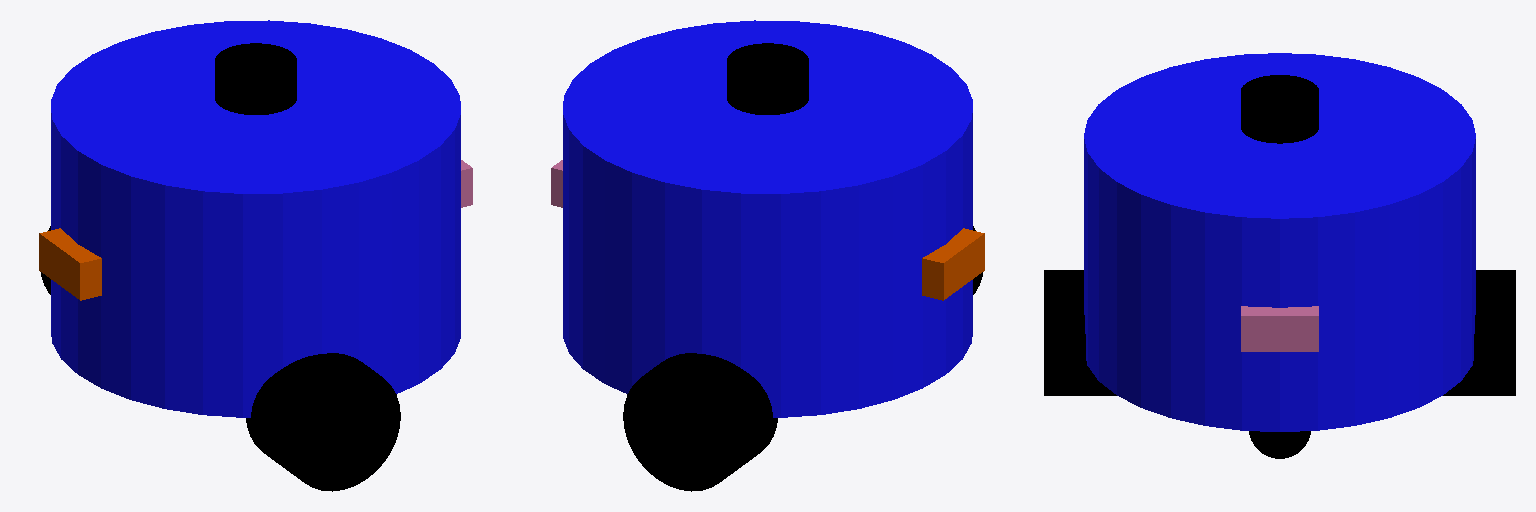
The robot description file, URDF, robot "fishbot":
<?xml version="1.0"?>
<robot name="fishbot">


  <!-- Robot Footprint -->
  <link name="base_footprint"/>

  <joint name="base_joint" type="fixed">
    <parent link="base_footprint"/>
    <child link="base_link"/>
    <origin xyz="-1.4 5.65 0.0" rpy="0 0 0"/>
  </joint>


  <!-- base link -->
  <link name="base_link">
  	<visual>
      <origin xyz="0 0 0.0" rpy="0 0 0"/>
      <geometry>
		<cylinder length="0.12" radius="0.10"/>
      </geometry>
      <material name="blue">
      	<color rgba="0.1 0.1 1.0 0.5" /> 
      </material>
    </visual>
    <collision>
      <origin xyz="0 0 0.0" rpy="0 0 0"/>
      <geometry>
		<cylinder length="0.12" radius="0.10"/>
      </geometry>
      <material name="blue">
      	<color rgba="0.1 0.1 1.0 0.5" /> 
      </material>
    </collision>
    <inertial>
      <mass value="0.2"/>
      <inertia ixx="0.0122666" ixy="0" ixz="0" iyy="0.0122666" iyz="0" izz="0.02"/>
    </inertial>
  </link>
    
  <!-- laser link -->
  <link name="laser_link">
    <visual>
      <origin xyz="0 0 0" rpy="0 0 0"/>
      <geometry>
        <cylinder length="0.02" radius="0.02"/>
      </geometry>
      <material name="black">
        <color rgba="0.0 0.0 0.0 0.5" /> 
      </material>
    </visual>
    <collision>
      <origin xyz="0 0 0" rpy="0 0 0"/>
      <geometry>
        <cylinder length="0.02" radius="0.02"/>
      </geometry>
      <material name="black">
        <color rgba="0.0 0.0 0.0 0.5" /> 
      </material>
    </collision>
    <inertial>
    <mass value="0.1"/>
      <inertia ixx="0.000190416666667" ixy="0" ixz="0" iyy="0.0001904" iyz="0" izz="0.00036"/>
    </inertial>
  </link>
  
  <!-- laser joint -->
  <joint name="laser_joint" type="fixed">
      <parent link="base_link" />
      <child link="laser_link" />
      <origin xyz="0 0 0.075" />
  </joint>

  <link name="imu_link">
  	<visual>
      <origin xyz="0 0 0.0" rpy="0 0 0"/>
      <geometry>
		    <box size="0.02 0.02 0.02"/>
      </geometry>
    </visual>
    <collision>
      <origin xyz="0 0 0.0" rpy="0 0 0"/>
      <geometry>
		    <box size="0.02 0.02 0.02"/>
      </geometry>
    </collision>
    <inertial>
      <mass value="0.1"/>
        <inertia ixx="0.000190416666667" ixy="0" ixz="0" iyy="0.0001904" iyz="0" izz="0.00036"/>
      </inertial>
  </link>

  <!-- imu joint -->
  <joint name="imu_joint" type="fixed">
      <parent link="base_link" />
      <child link="imu_link" />
      <origin xyz="0 0 0.02" />
  </joint>


  <link name="left_wheel_link">
      <visual>
        <origin xyz="0 0 0" rpy="1.57079 0 0"/>
        <geometry>
          <cylinder length="0.04" radius="0.032"/>
        </geometry>
          <material name="black">
            <color rgba="0.0 0.0 0.0 0.5" /> 
          </material>
      </visual>
      <collision>
        <origin xyz="0 0 0" rpy="1.57079 0 0"/>
        <geometry>
          <cylinder length="0.04" radius="0.032"/>
        </geometry>
          <material name="black">
            <color rgba="0.0 0.0 0.0 0.5" /> 
          </material>
      </collision>
      <inertial>
        <mass value="0.2"/>
          <inertia ixx="0.000190416666667" ixy="0" ixz="0" iyy="0.0001904" iyz="0" izz="0.00036"/>
        </inertial>
  </link>

  <link name="camera_link">
  	<visual>
      <origin xyz="0 0 0.0" rpy="0 0 0"/>
      <geometry>
		    <box size="0.02 0.04 0.02"/>
      </geometry>
    </visual>
    <collision>
      <origin xyz="0 0 0.0" rpy="0 0 0"/>
      <geometry>
		    <box size="0.02 0.04 0.02"/>
      </geometry>
    </collision>
    <inertial>
      <mass value="0.1"/>
        <inertia ixx="0.000190416666667" ixy="0" ixz="0" iyy="0.0001904" iyz="0" izz="0.00036"/>
      </inertial>
  </link>

  <!-- imu joint -->
  <joint name="camera_joint" type="fixed">
      <parent link="base_link" />
      <child link="camera_link" />
      <origin xyz="-0.10 0 0" rpy="0 0 3.14159"/>
  </joint>

  <link name="camera_depth_link">
  	<visual>
      <origin xyz="0 0 0.0" rpy="0 0 0"/>
      <geometry>
		    <box size="0.02 0.04 0.02"/>
      </geometry>
    </visual>
    <collision>
      <origin xyz="0 0 0.0" rpy="0 0 0"/>
      <geometry>
		    <box size="0.02 0.04 0.02"/>
      </geometry>
    </collision>
    <inertial>
      <mass value="0.1"/>
        <inertia ixx="0.000190416666667" ixy="0" ixz="0" iyy="0.0001904" iyz="0" izz="0.00036"/>
      </inertial>
  </link>

  <joint name="camera_depth_joint" type="fixed">
      <parent link="base_link" />
      <child link="camera_depth_link" />
      <origin xyz="0.10 0 0" rpy="0 0 0"/>
  </joint>
    
  <link name="right_wheel_link">
      <visual>
        <origin xyz="0 0 0" rpy="1.57079 0 0"/>
        <geometry>
          <cylinder length="0.04" radius="0.032"/>
        </geometry>
          <material name="black">
            <color rgba="0.0 0.0 0.0 0.5" /> 
          </material>
      </visual>
      <collision>
        <origin xyz="0 0 0" rpy="1.57079 0 0"/>
        <geometry>
          <cylinder length="0.04" radius="0.032"/>
        </geometry>
          <material name="black">
            <color rgba="0.0 0.0 0.0 0.5" /> 
          </material>
      </collision>
      <inertial>
      <mass value="0.2"/>
      <inertia ixx="0.000190416666667" ixy="0" ixz="0" iyy="0.0001904" iyz="0" izz="0.00036"/>
    </inertial>
  </link>
    
  <joint name="left_wheel_joint" type="continuous">
      <parent link="base_link" />
      <child link="left_wheel_link" />
      <origin xyz="-0.02 0.10 -0.06" />
      <axis xyz="0 1 0" />
  </joint>

  <joint name="right_wheel_joint" type="continuous">
      <parent link="base_link" />
      <child link="right_wheel_link" />
      <origin xyz="-0.02 -0.10 -0.06" />
      <axis xyz="0 1 0" />
  </joint>

  <link name="caster_link">
      <visual>
        <origin xyz="0 0 0" rpy="1.57079 0 0"/>
        <geometry>
            <sphere radius="0.016"/>
        </geometry>
          <material name="black">
            <color rgba="0.0 0.0 0.0 0.5" /> 
          </material>
      </visual>
      <collision>
        <origin xyz="0 0 0" rpy="1.57079 0 0"/>
        <geometry>
            <sphere radius="0.016"/>
        </geometry>
          <material name="black">
            <color rgba="0.0 0.0 0.0 0.5" /> 
          </material>
      </collision>
      <inertial>
      <mass value="0.02"/>
      <inertia ixx="0.000190416666667" ixy="0" ixz="0" iyy="0.0001904" iyz="0" izz="0.00036"/>
    </inertial>
  </link>
    
  <joint name="caster_joint" type="fixed">
      <parent link="base_link" />
      <child link="caster_link" />
      <origin xyz="0.06 0.0 -0.076" />
      <axis xyz="0 1 0" />
  </joint>



    <gazebo reference="caster_link">
      <material>Gazebo/Black</material>
    </gazebo>

    <gazebo reference="caster_link">
      <mu1 value="0.0"/>
      <mu2 value="0.0"/>
      <kp value="1000000.0" />
      <kd value="10.0" />
      <!-- <fdir1 value="0 0 1"/> -->
    </gazebo>


    <!-- 下面的是二轮差速底盘的代码 -->
    
    <!-- <gazebo>
      <plugin name='diff_drive' filename='libgazebo_ros_diff_drive.so'>
          <ros>
            <namespace>/</namespace>
            <remapping>cmd_vel:=cmd_vel</remapping>
            <remapping>odom:=odom</remapping>
          </ros>
          <update_rate>30</update_rate>
          
          <left_joint>left_wheel_joint</left_joint>
          <right_joint>right_wheel_joint</right_joint>
          
          <wheel_separation>0.2</wheel_separation>
          <wheel_diameter>0.065</wheel_diameter>
          
          <max_wheel_torque>20</max_wheel_torque>
          <max_wheel_acceleration>1.0</max_wheel_acceleration>
          
          <publish_odom>true</publish_odom>
          <publish_odom_tf>true</publish_odom_tf>
          <publish_wheel_tf>true</publish_wheel_tf>
          <odometry_frame>odom</odometry_frame>
          <robot_base_frame>base_footprint</robot_base_frame>
      </plugin>
    </gazebo>  -->
  

    <gazebo>
      <plugin name="planar_move" filename="libcmd_vel_z_plugin.so">
        <ros>
          <namespace>/</namespace>
          <remapping>cmd_vel:=cmd_vel</remapping>
          <remapping>odom:=odom</remapping>
        </ros>
        <update_rate>100.0</update_rate>
        <odometry_frame>odom</odometry_frame>
        <robot_base_frame>base_footprint</robot_base_frame>
        <publish_odom>true</publish_odom>
        <publish_odom_tf>true</publish_odom_tf>
      </plugin>
    </gazebo>

    <!-- <gazebo>
      <plugin name="cmd_vel_z_plugin" filename="libcmd_vel_z_plugin.so">
        <ros>
          <namespace>/</namespace>
          <remapping>cmd_vel:=/cmd_vel</remapping>
        </ros>
      </plugin>
    </gazebo> -->

    <gazebo>
      <plugin name="fishbot_joint_state" filename="libgazebo_ros_joint_state_publisher.so">
        <ros>
          <remapping>~/out:=joint_states</remapping>
        </ros>
        <update_rate>30</update_rate>
        <joint_name>right_wheel_joint</joint_name>
        <joint_name>left_wheel_joint</joint_name>
      </plugin>    
    </gazebo> 

    <gazebo reference="laser_link">
      <material>Gazebo/Black</material>
    </gazebo>

    <gazebo reference="imu_link">
      <sensor name="imu_sensor" type="imu">
      <plugin filename="libgazebo_ros_imu_sensor.so" name="imu_plugin">
          <ros>
            <namespace>/</namespace>
            <remapping>~/out:=imu</remapping>
          </ros>
          <initial_orientation_as_reference>false</initial_orientation_as_reference>
        </plugin>
        <always_on>true</always_on>
        <update_rate>100</update_rate>
        <visualize>true</visualize>
        <imu>
          <angular_velocity>
            <x>
              <noise type="gaussian">
                <mean>0.0</mean>
                <stddev>2e-4</stddev>
                <bias_mean>0.0000075</bias_mean>
                <bias_stddev>0.0000008</bias_stddev>
              </noise>
            </x>
            <y>
              <noise type="gaussian">
                <mean>0.0</mean>
                <stddev>2e-4</stddev>
                <bias_mean>0.0000075</bias_mean>
                <bias_stddev>0.0000008</bias_stddev>
              </noise>
            </y>
            <z>
              <noise type="gaussian">
                <mean>0.0</mean>
                <stddev>2e-4</stddev>
                <bias_mean>0.0000075</bias_mean>
                <bias_stddev>0.0000008</bias_stddev>
              </noise>
            </z>
          </angular_velocity>
          <linear_acceleration>
            <x>
              <noise type="gaussian">
                <mean>0.0</mean>
                <stddev>1.7e-2</stddev>
                <bias_mean>0.1</bias_mean>
                <bias_stddev>0.001</bias_stddev>
              </noise>
            </x>
            <y>
              <noise type="gaussian">
                <mean>0.0</mean>
                <stddev>1.7e-2</stddev>
                <bias_mean>0.1</bias_mean>
                <bias_stddev>0.001</bias_stddev>
              </noise>
            </y>
            <z>
              <noise type="gaussian">
                <mean>0.0</mean>
                <stddev>1.7e-2</stddev>
                <bias_mean>0.1</bias_mean>
                <bias_stddev>0.001</bias_stddev>
              </noise>
            </z>
          </linear_acceleration>
        </imu>
      </sensor>
    </gazebo>


    <!-- 二维雷达 -->
    <!-- <gazebo reference="laser_link">
      <sensor name="laser_sensor" type="ray">
      <always_on>true</always_on>
      <visualize>true</visualize>
      <update_rate>5</update_rate>
      <pose>0 0 0.075 0 0 0</pose>
      <ray>
          <scan>
            <horizontal>
              <samples>360</samples>
              <resolution>1.000000</resolution>
              <min_angle>0.000000</min_angle>
              <max_angle>6.280000</max_angle>
            </horizontal>
          </scan>
          <range>
            <min>0.120000</min>
            <max>3.5</max>
            <resolution>0.015000</resolution>
          </range>
          <noise>
            <type>gaussian</type>
            <mean>0.0</mean>
            <stddev>0.01</stddev>
          </noise>
      </ray>

      <plugin name="laserscan" filename="libgazebo_ros_ray_sensor.so">
        <ros>
          <remapping>~/out:=scan</remapping>
        </ros>
        <output_type>sensor_msgs/LaserScan</output_type>
        <frame_name>laser_link</frame_name>
      </plugin>
      </sensor>
    </gazebo> -->

    <gazebo reference="laser_link">
     <!-- Visuals / Collisions omitted for this example -->
      <sensor type="ray" name="3d_laser_sensor">
        <!-- <visualize>true</visualize> -->
        <ray>
          <scan>
            <horizontal>
              <samples>1440</samples>
              <resolution>1</resolution>
              <!-- 下面是修改水平扫描范围，单位是弧度 -->
              <min_angle>-3.14159</min_angle>
              <max_angle>3.14159</max_angle>
            </horizontal>
            <vertical>
              <samples>80</samples>
                <resolution>1</resolution>
                <min_angle>-0.122173</min_angle> <!-- -7° -->
                <max_angle>0.907571</max_angle>  <!-- 52° -->
            </vertical>
          </scan>
          <range>
            <min>0.05</min>
            <max>10.0</max>
            <resolution>0.01</resolution>
          </range>
          <!-- Using gazebo's noise instead of plugin's -->
          <noise>
            <type>gaussian</type>
            <mean>0.0</mean>
            <stddev>0.01</stddev>
          </noise>
        </ray>
        <!-- Using gazebo's update rate instead of plugin's -->
        <update_rate>30</update_rate>
        <plugin name="gazebo_ros_block_laser_controller" filename="libgazebo_ros_ray_sensor.so">
          <!-- Change namespace and output topic so published topic is /rrbot/laser/pointcloud -->
          <ros>
            <namespace>/rrbot/laser</namespace>
            <remapping>~/out:=pointcloud</remapping>
          </ros>
          <!-- Set output to sensor_msgs/PointCloud to get same output type as gazebo_ros_block_laser -->
          <output_type>sensor_msgs/PointCloud</output_type>
          <!-- <frame_name> ommited, will default to block_laser_link --><!-- min_intensity instead of hokuyoMinIntensity -->
          <min_intensity>100.0</min_intensity>
          <frame_name>laser_link</frame_name>
        </plugin>
      </sensor>
    </gazebo>

    <gazebo reference="camera_link">
      <sensor name="camera_sensor" type="camera">
      <always_on>true</always_on>
      <!-- <visualize>true</visualize> -->
       <update_rate>30.0</update_rate>
      <camera name="head">
        <!--匹配物理相机硬件上制造商提供的规格数据-->
        <horizontal_fov>1.3962634</horizontal_fov>
        <image>
          <width>800</width>
          <height>800</height>
          <format>R8G8B8</format>
        </image>
        <clip>
          <near>0.02</near>
          <far>300</far>
        </clip>
        <noise>
          <type>gaussian</type>
          <!-- Noise is sampled independently per pixel on each frame.
               That pixel's noise value is added to each of its color
               channels, which at that point lie in the range [0,1]. -->
          <mean>0.0</mean>
          <stddev>0.007</stddev>
        </noise>
      </camera>

     <plugin name="camera_plugin" filename="libgazebo_ros_camera.so">
      <ros>
        <!-- 命名空间设置 -->
        <namespace>/camera</namespace>
        <!-- 图像话题重映射 -->
        <remapping>image_raw:=image</remapping>
      </ros>
      <camera_name>camera</camera_name>
      <frame_name>camera_link</frame_name>
      <hack_baseline>0.07</hack_baseline>
      <always_on>true</always_on>
     </plugin>
     </sensor>
    </gazebo>

    <gazebo reference="camera_depth_link">
      <sensor type="depth" name="camera_sensor">
        <plugin name="depth_camera" filename="libgazebo_ros_camera.so">
            <ros>
              <namespace>depth_camera</namespace>
            </ros>

            <!-- Set camera name. If empty, defaults to sensor name (i.e. "sensor_name") -->
            <camera_name>depth_camera</camera_name>

            <!-- Set TF frame name. If empty, defaults to link name (i.e. "link_name") -->
            <frame_name>camera_depth_link</frame_name>

            <hack_baseline>0.07</hack_baseline>

            <!-- No need to repeat distortion parameters or to set autoDistortion -->

            <min_depth>0.05</min_depth>
            <max_depth>8.0</max_depth>
        </plugin>
        <visualize>true</visualize>
        <always_on>true</always_on>
        <update_rate>10</update_rate>
        <camera name="depth_camera">
          <distortion>
            <k1>0.0</k1>
            <k2>0.0</k2>
            <k3>0.0</k3>
            <p1>0.0</p1>
            <p2>0.0</p2>
            <!-- <k1>0.1</k1>
            <k2>0.2</k2>
            <k3>0.3</k3>
            <p1>0.4</p1>
            <p2>0.5</p2> -->
            <center>0.5 0.5</center>
          </distortion>
          </camera>
      </sensor>
    </gazebo>

    <!-- <gazebo>
      <plugin name="my_hello_plugin" filename="libhello_plugin.so">
        <message>Hello from URDF!</message>
        <update_rate>10.0</update_rate>
      </plugin>
    </gazebo> -->
</robot>

--- Render facts (derived) ---
3 views of the same robot in one strip: view 1: azimuth 30°, elevation 25°; view 2: azimuth 150°, elevation 25°; view 3: azimuth 270°, elevation 25° (orthographic).
Model fishbot with 9 links and 8 joints (2 continuous, 6 fixed), rooted at base_footprint, posed all joints at 0.
Links seen in each view (by area): view 1: base_link, right_wheel_link, laser_link, camera_link; view 2: base_link, left_wheel_link, laser_link, camera_link; view 3: base_link, left_wheel_link, right_wheel_link, laser_link, camera_depth_link, caster_link.
Link boxes in pixels (box(x1,y1,x2,y2)): base_link: box(51, 20, 460, 417); right_wheel_link: box(246, 353, 400, 491); laser_link: box(215, 43, 296, 114); camera_link: box(39, 228, 101, 300); base_link: box(563, 20, 972, 417); left_wheel_link: box(623, 353, 777, 491); laser_link: box(727, 43, 808, 114); camera_link: box(922, 228, 984, 300); base_link: box(1084, 53, 1475, 431); left_wheel_link: box(1443, 270, 1515, 395); right_wheel_link: box(1044, 270, 1116, 395); laser_link: box(1241, 75, 1318, 143); camera_depth_link: box(1241, 306, 1318, 351); caster_link: box(1249, 431, 1310, 458).
Size in the robot's own frame: 0.22 by 0.24 by 0.177 metres.
Geometry: primitives only (box / cylinder / sphere), no mesh files.
